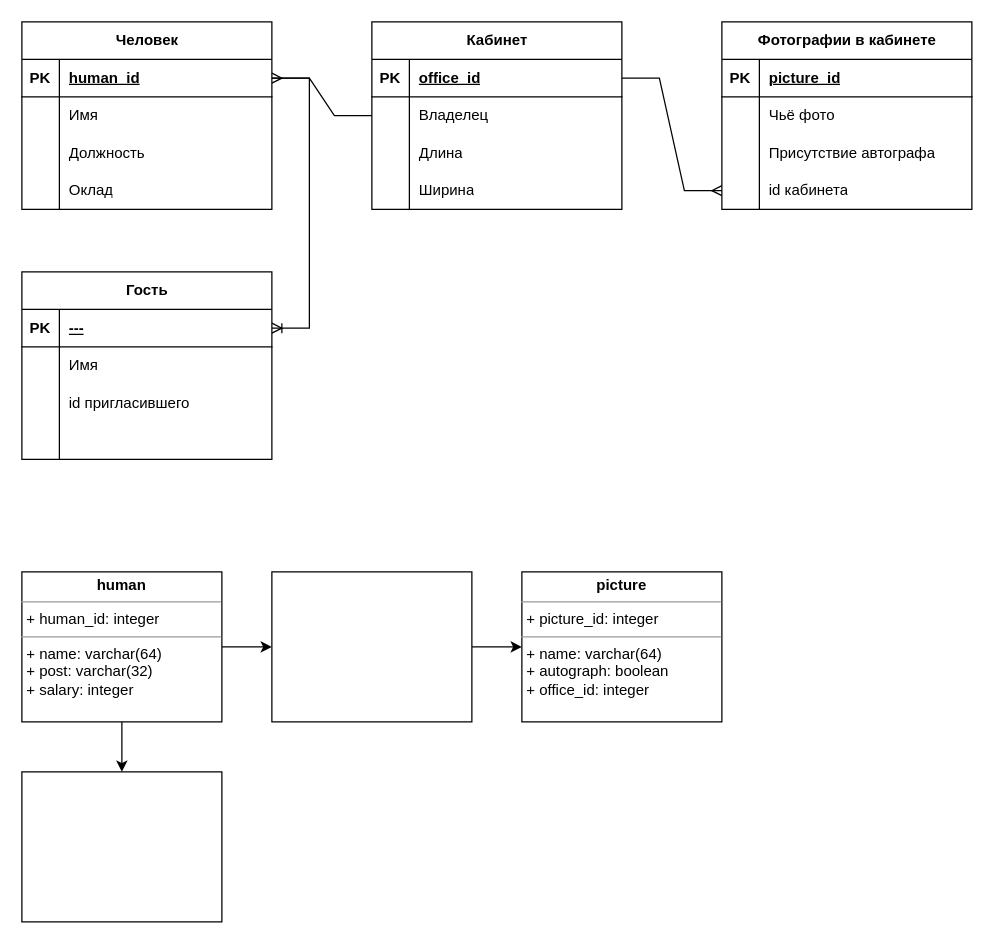
The diagram is 994 pixels wide and 944 high, and some of its shapes have lost their labels. The centre of each missing label's shape, as x and y in pixels:
guest + name: varchar(64) + guest_id: integer: (121,846)
office + office_id: integer + ovner_id integer + length: double + width: double: (371,646)
